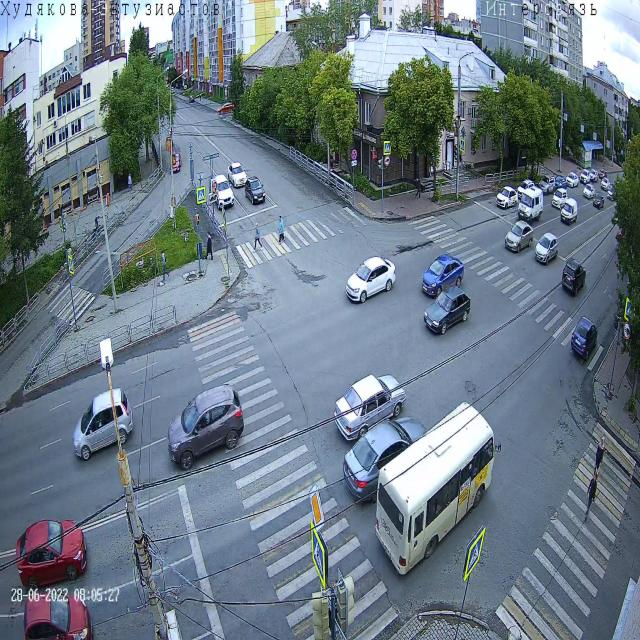car: (342, 414, 429, 506), (165, 384, 245, 472), (334, 371, 408, 445), (14, 520, 88, 587), (72, 388, 134, 460), (22, 594, 94, 640), (424, 286, 472, 336), (346, 257, 396, 303), (421, 252, 464, 299), (570, 315, 598, 362), (562, 257, 586, 298), (505, 220, 534, 253), (210, 173, 235, 209), (535, 232, 558, 266), (244, 176, 266, 206), (227, 161, 248, 188), (496, 185, 518, 210), (560, 197, 578, 225), (516, 178, 536, 199), (538, 173, 556, 196), (552, 187, 568, 211), (553, 174, 568, 192), (170, 152, 182, 173), (593, 191, 605, 211), (566, 170, 579, 188), (607, 184, 620, 202), (218, 102, 235, 115), (583, 183, 595, 201), (579, 169, 591, 185), (600, 176, 611, 192), (589, 168, 598, 184), (599, 168, 608, 181), (188, 95, 195, 104)
pedestrian: (584, 469, 599, 523), (593, 435, 605, 479), (252, 222, 264, 253), (160, 249, 170, 281), (204, 230, 213, 260), (278, 214, 286, 245), (415, 176, 422, 200), (94, 215, 100, 240), (199, 92, 202, 103)
shuttle_taxi: (374, 401, 502, 577)
truck: (517, 185, 543, 225)
